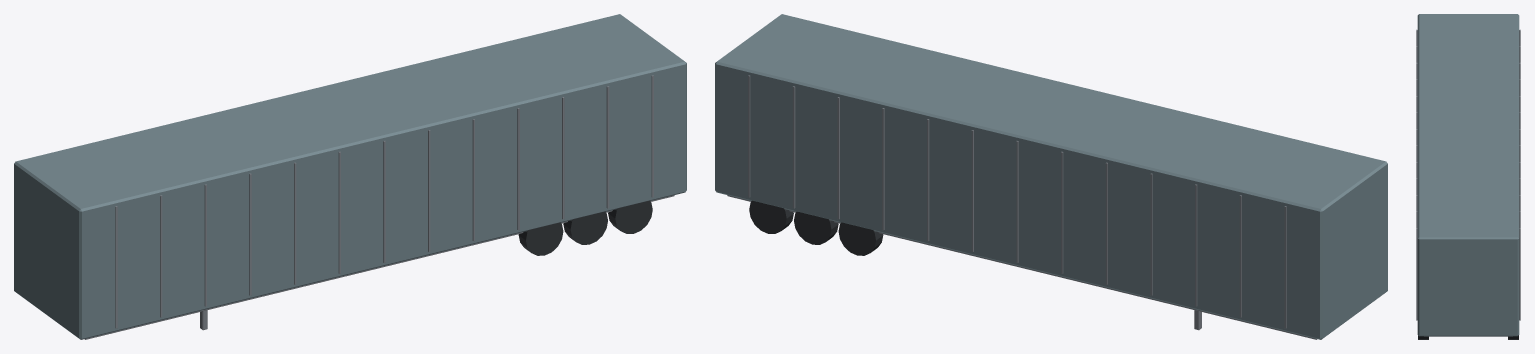
File: semi_trailer.glb
The picture shows the model from 3 angles, left to right: view 1: azimuth 30°, elevation 25°; view 2: azimuth 150°, elevation 25°; view 3: azimuth 270°, elevation 25°; orthographic projection. The views are drawn at different scales.
Parts seen in each view (by area): view 1: semi_trailer; view 2: semi_trailer; view 3: semi_trailer.
Boxes of the visible parts, bbox=[...] form: semi_trailer: bbox=[14, 14, 686, 339]; semi_trailer: bbox=[715, 14, 1387, 339]; semi_trailer: bbox=[1416, 14, 1520, 339].
Size of the model in its own units: 13.6 by 3.4 by 2.67.
